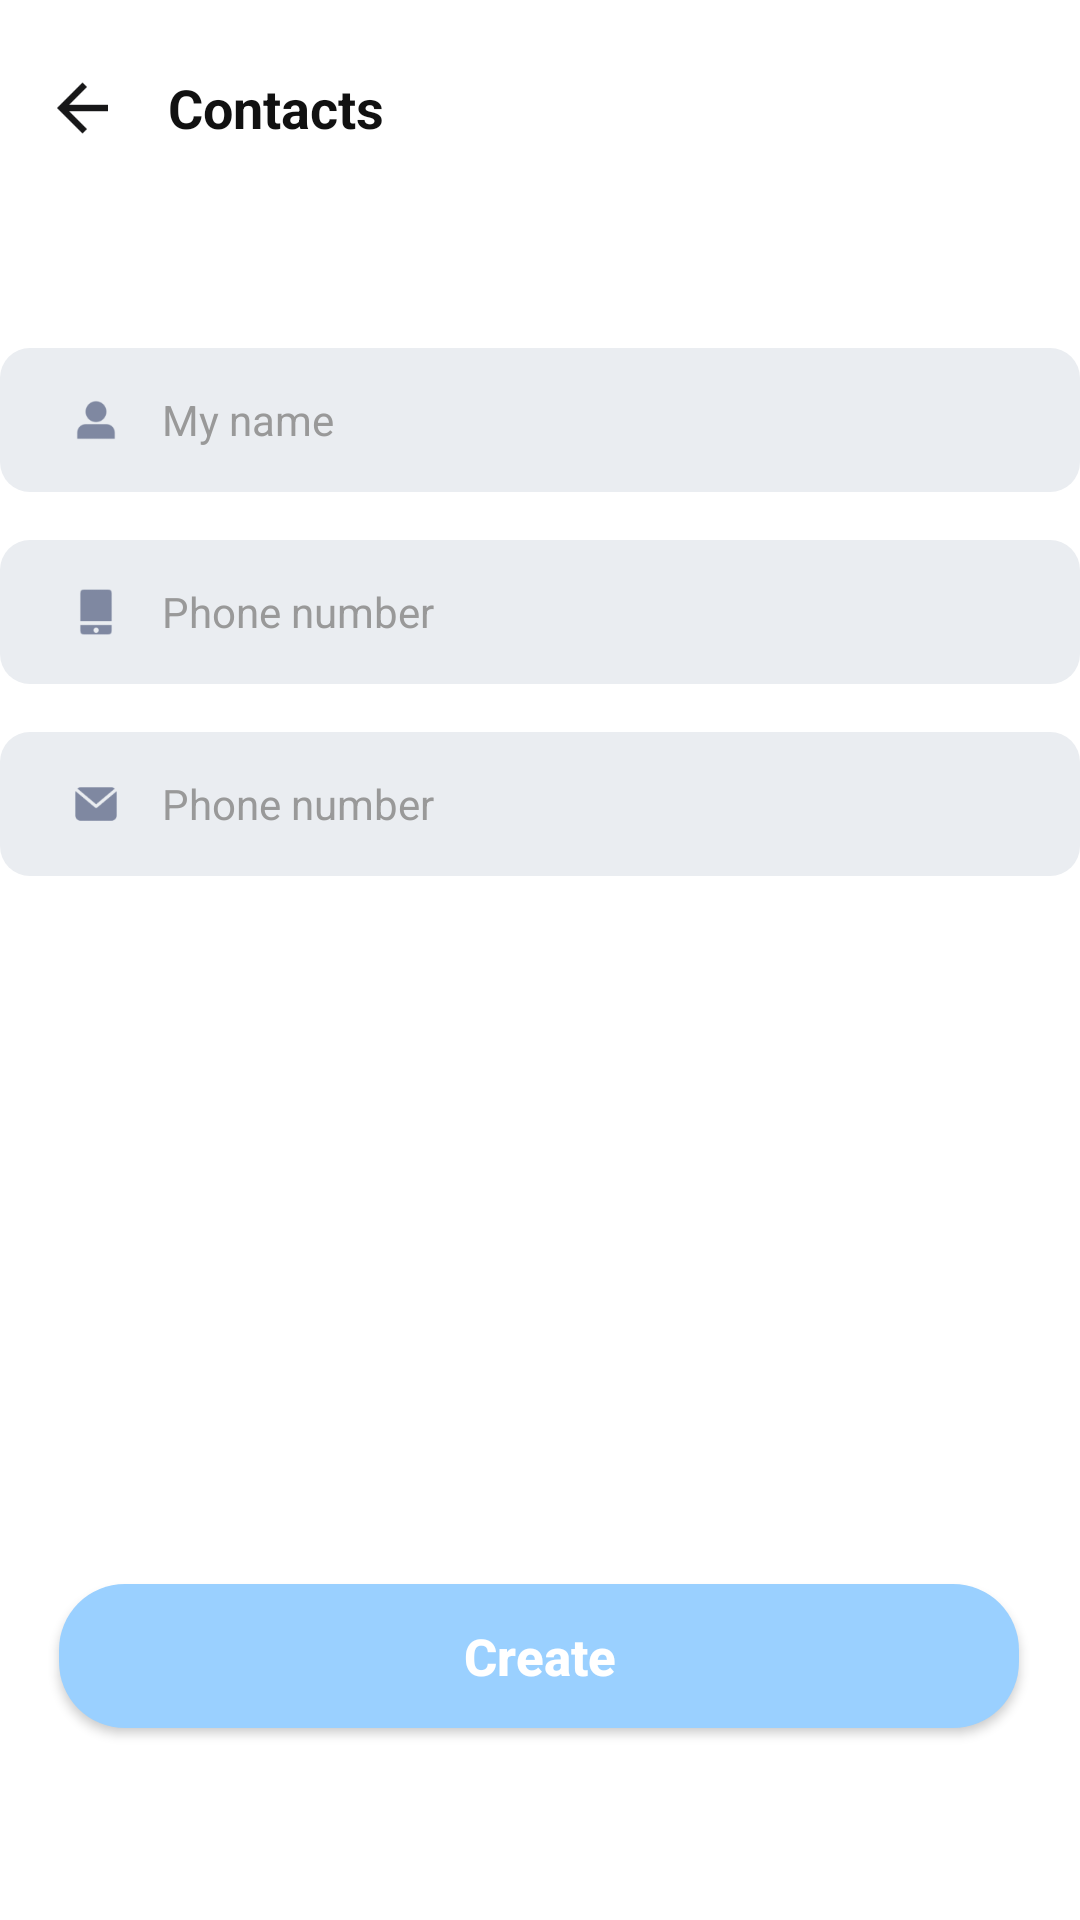

Icon click points for this 1080 × 1920 phone screenshot, format [x,y]:
create name: [96,420]
create phone: [96,612]
email: [96,804]
results page return: [82,108]
